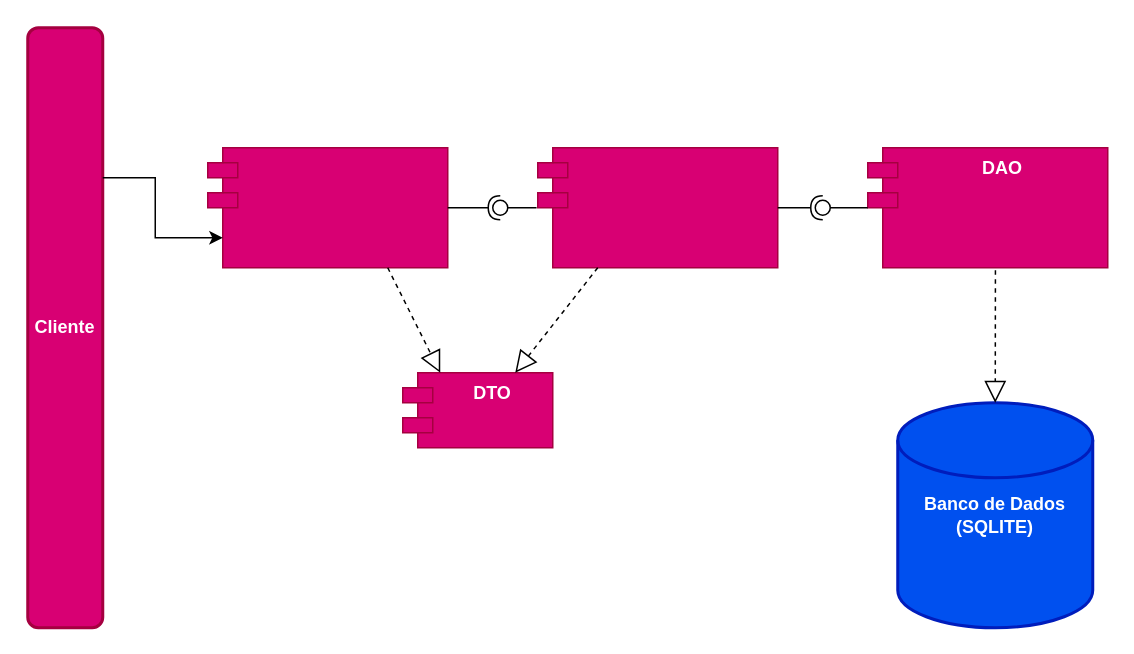
Image size: 1134x654. Some labels were removed from this diagram. Here are the shapes that lost their labels. From the top down, the centre of each, then its label:
At (x=327, y=207): "Controller".
At (x=657, y=207): "Service".
